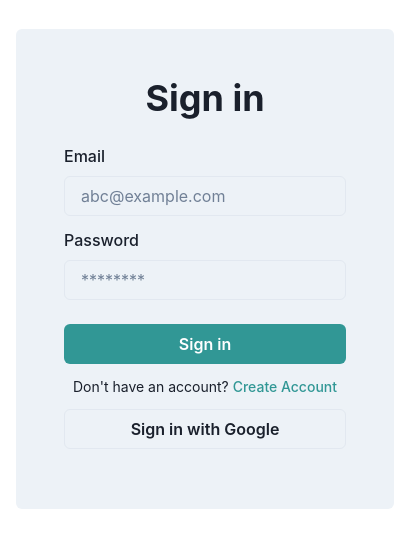
Enhanced SignIn Component › Form Validation › should show error when email is empty
This screenshot has width=411, height=539.
Click the button with test id "signin-submit". click: (205, 344)
box: [64, 324, 346, 364]
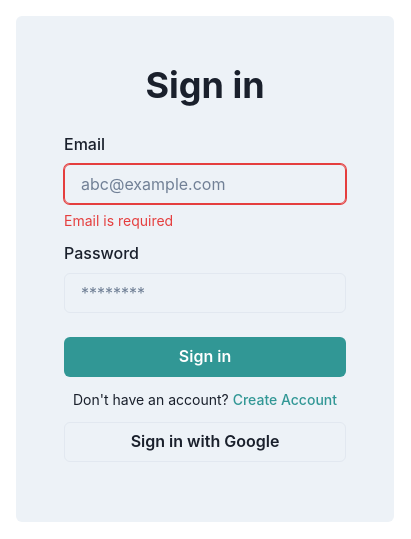
Result: the text "Email is required" is shown at [64, 212, 173, 229]
